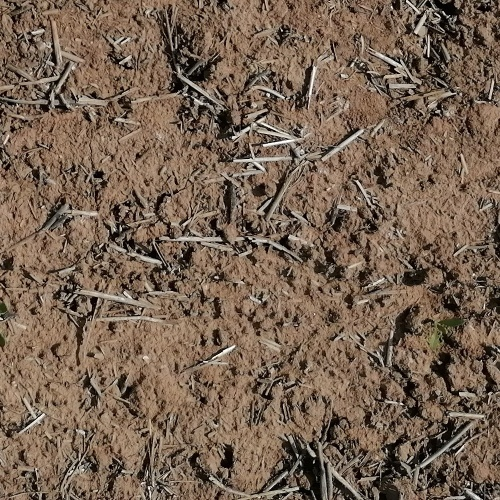beet: (427, 317, 465, 351)
